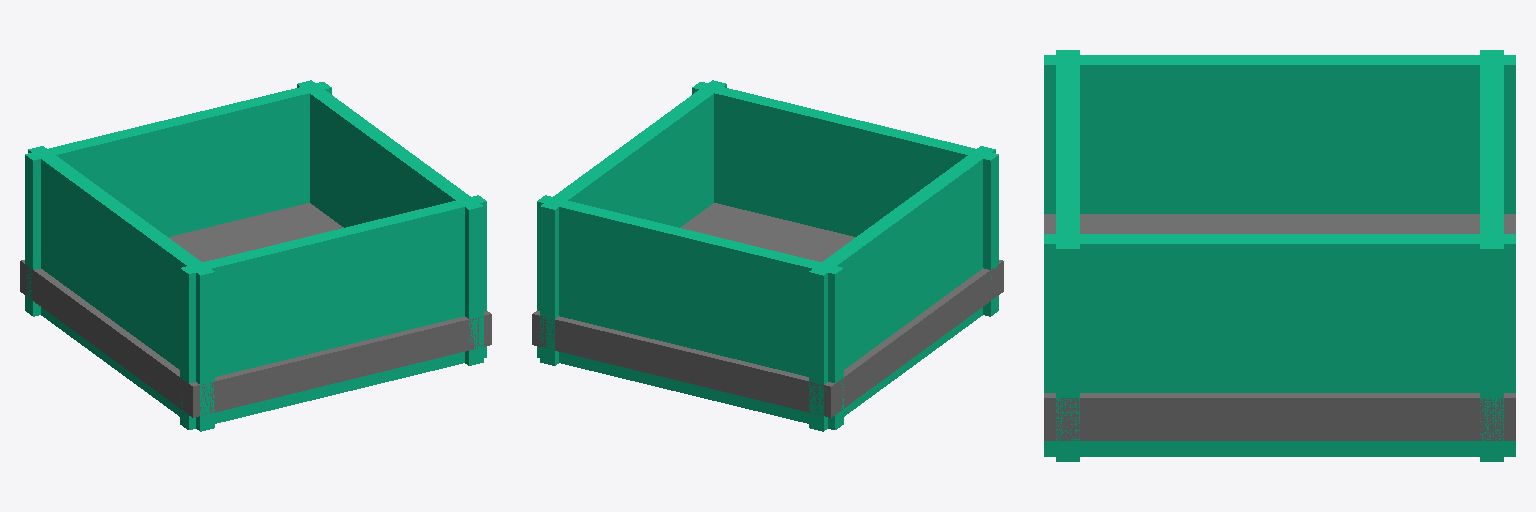
The robot description file, URDF, robot "bowl.urdf":
<?xml version="0.0" ?>
<robot name="bowl.urdf">
  <material name="mainColor">
    <color rgba=".1 .8 .6 1."/>
  </material>
<!--   <material name="mainColor">
    <color rgba=".55 .27 .1 1."/>
  </material> -->
<!--   <material name="mainColor">
    <color rgba="1. 1. 1. 1."/>
  </material> -->
  <material name="grey">
    <color rgba=".5 .5 .5 1."/>
  </material>

  <link name="world"/>

  <link name="base">
    <inertial>
      <origin rpy="0 0 0" xyz="0.0 0.0 0.0"/>
       <mass value=".1"/>
       <inertia ixx="1" ixy="0" ixz="0" iyy="1" iyz="0" izz="1"/>
    </inertial>
    <visual>
      <!-- bottom -->
      <origin rpy="0 0 0" xyz="0 0 -0.15"/>
      <geometry>
        <box size="1 1 .1"/>
      </geometry>
      <material name="grey"/>
    </visual>
    <visual>
      <!-- right -->
      <origin rpy="0 0 0" xyz="0 -.45 0"/>
      <geometry>
        <box size="1 .05 .5"/>
      </geometry>
      <material name="mainColor"/>
    </visual>
    <visual>
      <!-- left -->
      <origin rpy="0 0 0" xyz="0 .45 0"/>
      <geometry>
        <box size="1 .05 .5"/>
      </geometry>
      <material name="mainColor"/>
    </visual>
    <visual>
      <!-- front -->
      <origin rpy="0 0 0" xyz=".45 0 0"/>
      <geometry>
        <box size=".05 1 .5"/>
      </geometry>
      <material name="mainColor"/>
    </visual>
    <visual>
      <!-- back -->
      <origin rpy="0 0 0" xyz="-.45 0 0"/>
      <geometry>
        <box size=".05 1 .5"/>
      </geometry>
      <material name="mainColor"/>
    </visual>
    <collision>
      <origin rpy="0 0 0" xyz="0 0 -.3"/>
      <geometry>
        <box size="1.2 1.2 .1"/>
      </geometry>
    </collision>
    <collision>
      <!-- right -->
      <origin rpy="0 0 0" xyz="0 -.45 0"/>
      <geometry>
        <box size="1 .05 .5"/>
      </geometry>
    </collision>
    <collision>
      <!-- left -->
      <origin rpy="0 0 0" xyz="0 .45 0"/>
      <geometry>
        <box size="1 .05 .5"/>
      </geometry>
    </collision>
    <collision>
      <!-- front -->
      <origin rpy="0 0 0" xyz=".45 0 0"/>
      <geometry>
        <box size=".05 1 .5"/>
      </geometry>
    </collision>
    <collision>
      <!-- back -->
      <origin rpy="0 0 0" xyz="-.45 0 0"/>
      <geometry>
        <box size=".05 1 .5"/>
      </geometry>
    </collision>
  </link>

  <joint name="base_joint" type="fixed">
    <parent link="world"/>
    <child link="base"/>
  </joint>

</robot>

--- Facts derived from the render (not from the file) ---
3 views of the same robot in one strip: view 1: azimuth 30°, elevation 25°; view 2: azimuth 150°, elevation 25°; view 3: azimuth 270°, elevation 25° (orthographic).
Model bowl.urdf with 2 links and 1 joints (1 fixed), rooted at world, posed all joints at 0.
Visible links, largest first — view 1: base; view 2: base; view 3: base.
Link boxes in pixels (x1,y1,x2,y2): base: [20, 80, 491, 431]; base: [532, 80, 1003, 431]; base: [1044, 50, 1515, 461].
Bounding box of the posed robot: 1 × 1 × 0.5 m (x, y, z).
Geometry: primitives only (box / cylinder / sphere), no mesh files.